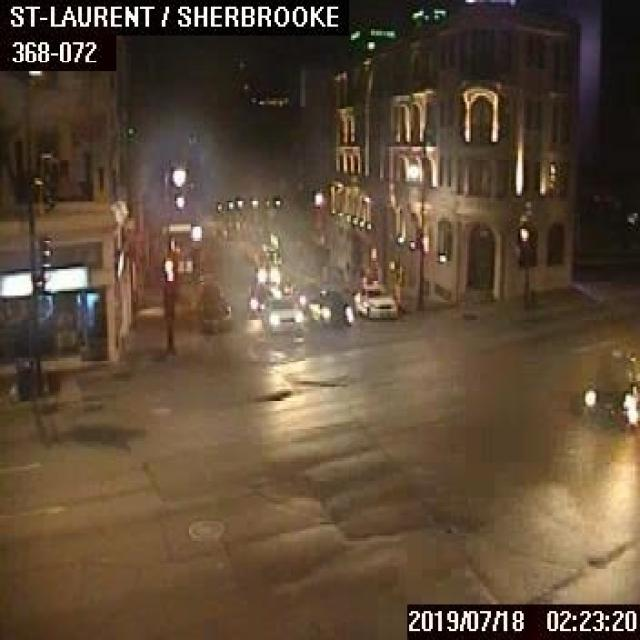vehicle: (578, 351, 638, 425), (260, 294, 303, 332), (306, 288, 351, 324), (354, 282, 395, 317), (198, 296, 229, 331), (248, 282, 278, 315), (255, 261, 279, 283)
